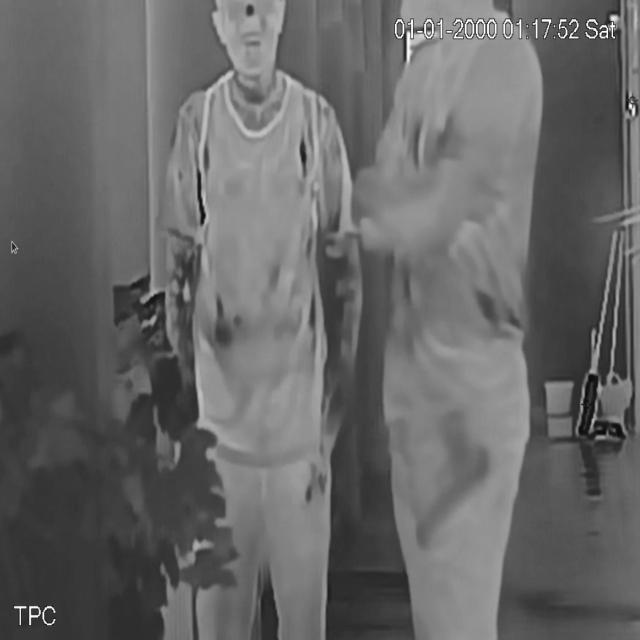Weapon: (402, 407, 510, 562)
